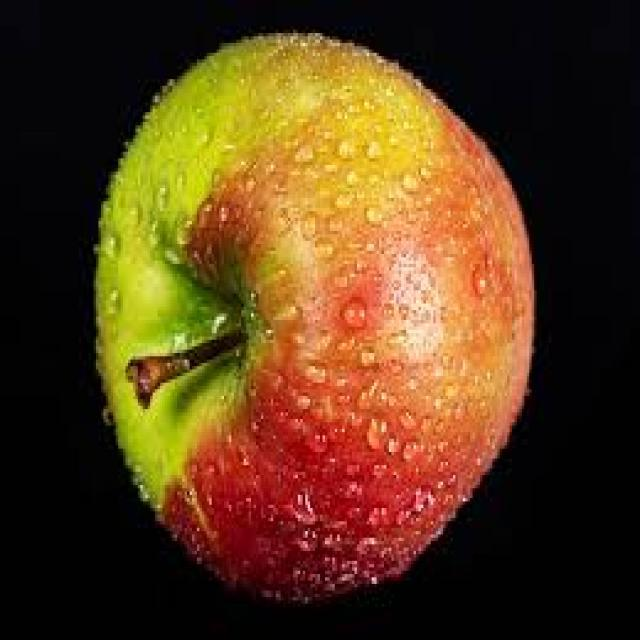Fresh Apple: (85, 27, 545, 610), (0, 316, 1, 319)
